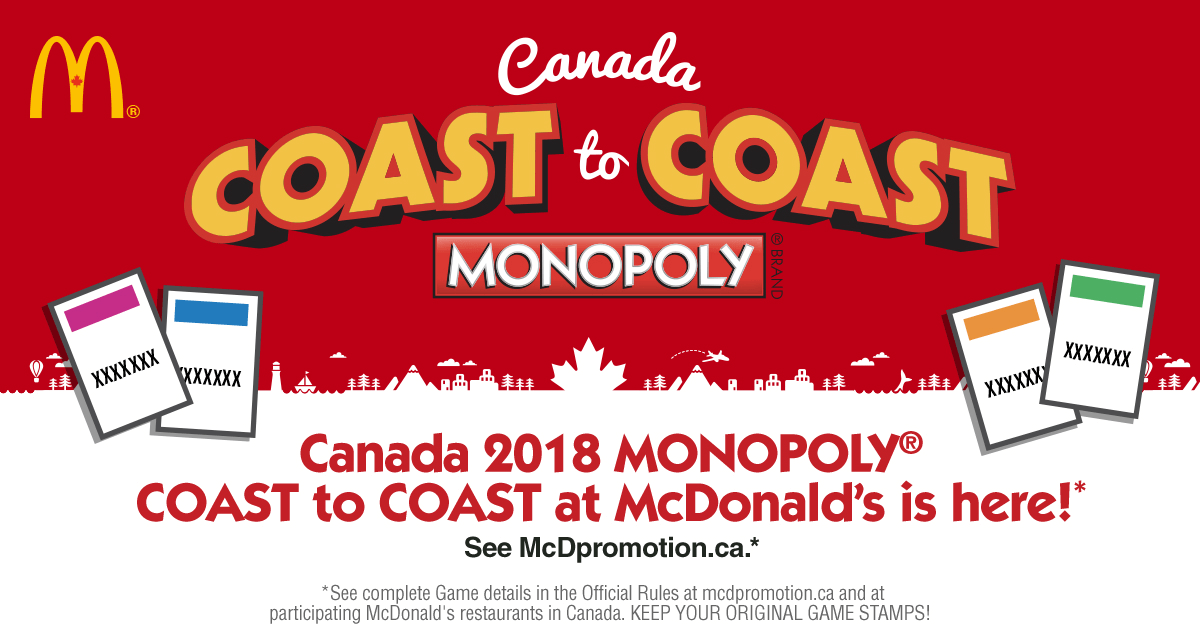mcdonalds: (18, 30, 127, 127)
